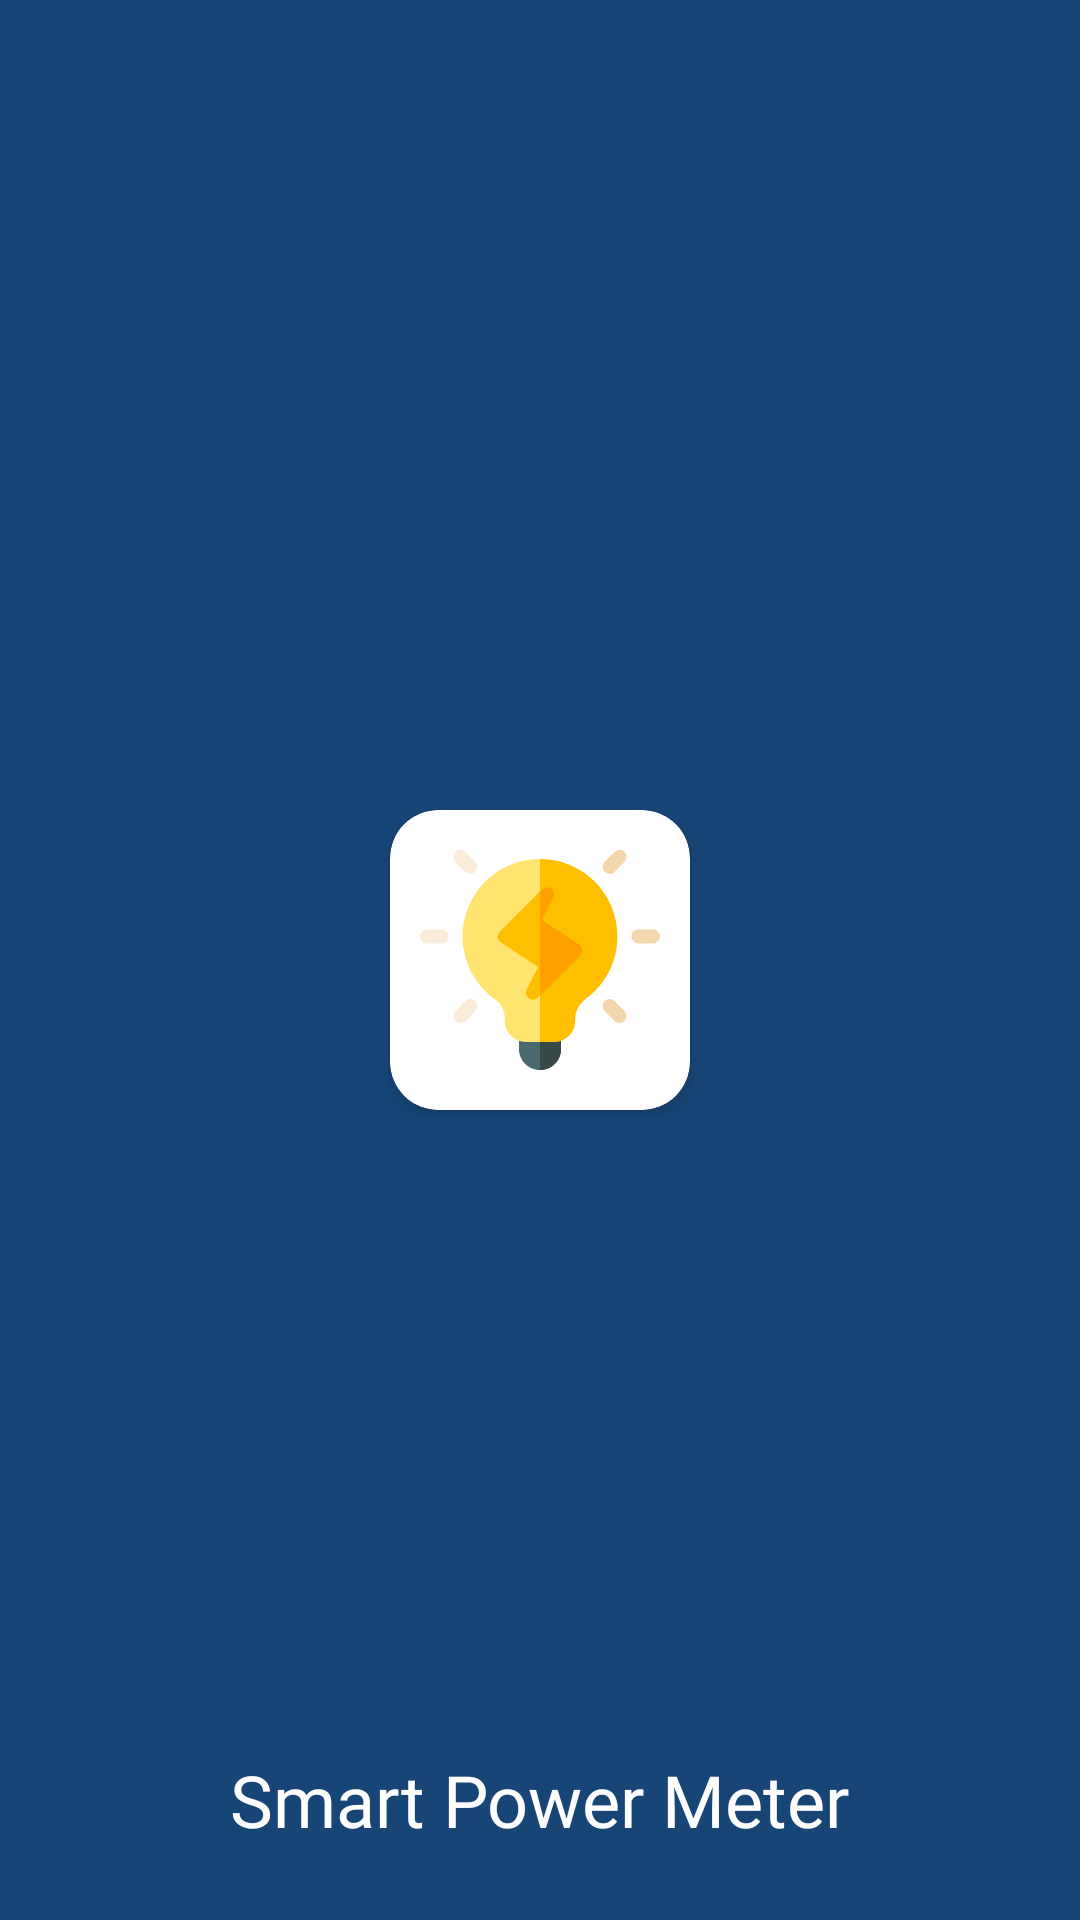

Icon click points for this 1080 × 1920 phone screenshot, format point (x, y):
idea: point (540, 960)
